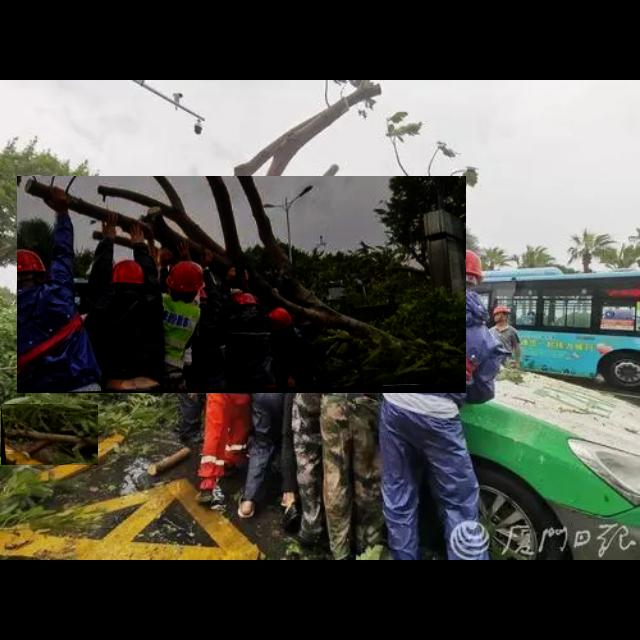Fallen Tree: (17, 176, 467, 394), (1, 404, 99, 466)
